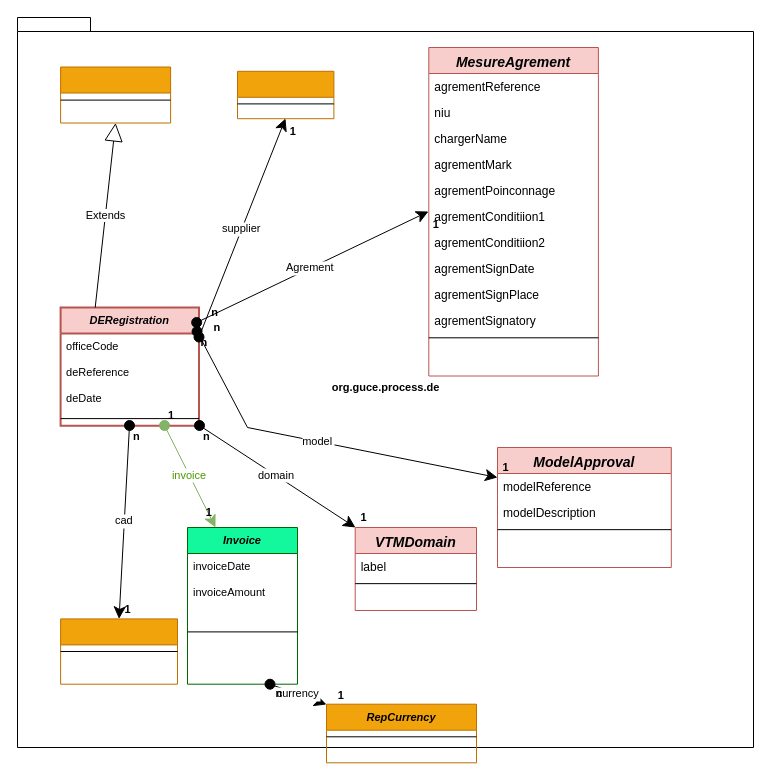
The diagram is 771 pixels wide and 781 high, and some of its shapes have lost their labels. The centre of each missing label's shape, as x and y in pixels:
CoreCAD: (119,651)
CoreCharger: (285,94)
CoreRecord: (115,94)
